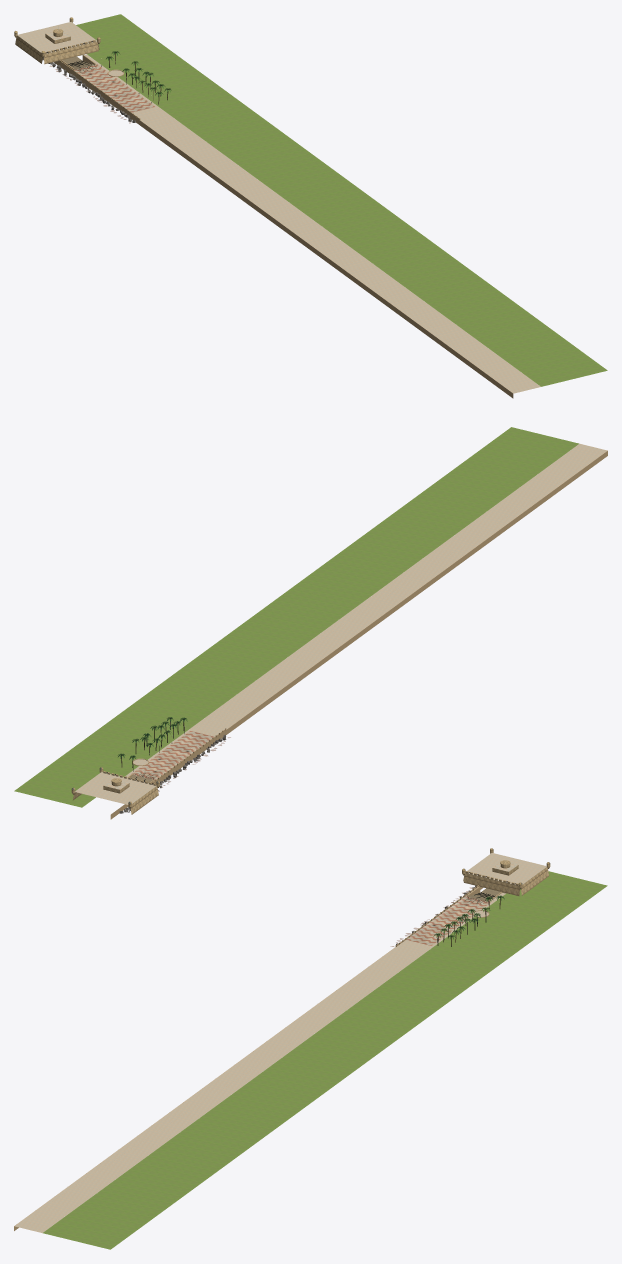
Rendered from lugar-puertoplata.glb.
3 renders of one model, top to bottom at view 1: azimuth 30°, elevation 25°; view 2: azimuth 150°, elevation 25°; view 3: azimuth 330°, elevation 25°, orthographic. The views are drawn at different scales.
Parts seen in each view (by area): view 1: luzG-paseo, luzS-pista, vert-cerca; view 2: luzG-paseo, luzS-pista, vert-cerca; view 3: luzG-paseo, luzS-pista, vert-cerca.
Part boxes in pixels (x1,y1,x2,y2): luzG-paseo: [76, 14, 607, 393]; luzS-pista: [14, 19, 513, 398]; vert-cerca: [14, 17, 171, 123]; luzG-paseo: [14, 427, 607, 807]; luzS-pista: [71, 451, 607, 819]; vert-cerca: [71, 717, 230, 812]; luzG-paseo: [14, 871, 607, 1249]; luzS-pista: [14, 850, 550, 1230]; vert-cerca: [390, 848, 550, 946].
Size of what is drawn, in the model's own units: 81.65 by 19.21 by 620.
9 materials, 8 textured.
